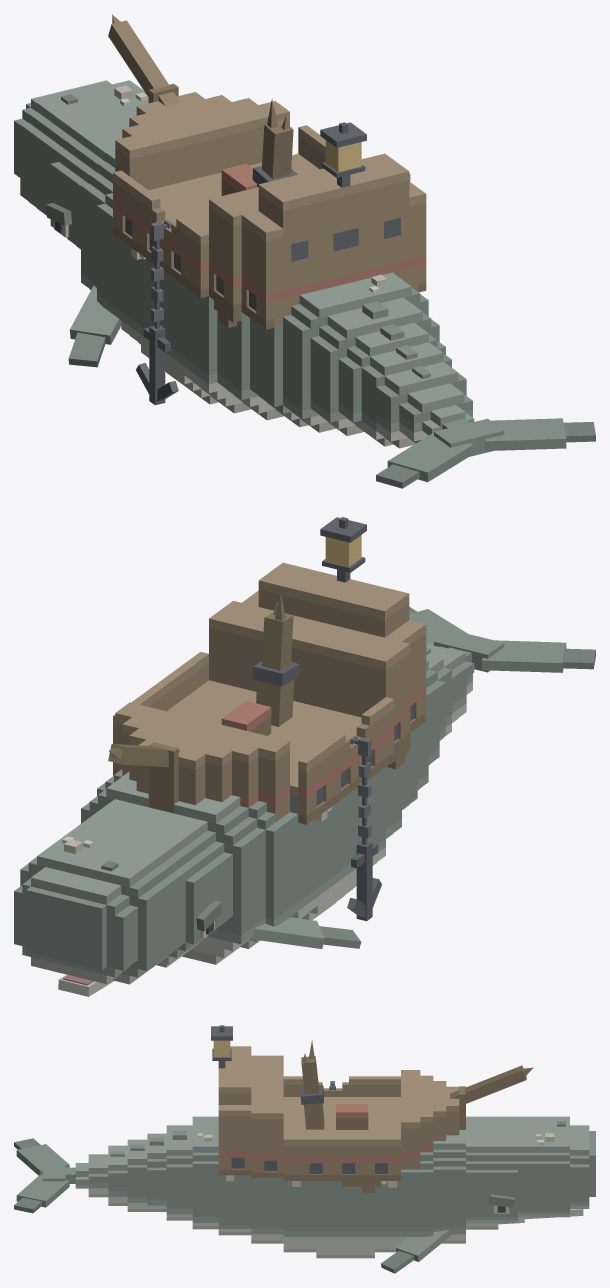
The model's file is GalleonWhale.glb.
3 views of the same model, one above another, from view 1: azimuth 30°, elevation 25°; view 2: azimuth 150°, elevation 25°; view 3: azimuth 270°, elevation 25° (orthographic). The views are drawn at different scales.
Parts seen in each view (by area): view 1: Hull, Head, Tail, T1, T2, T3, T5, T4, FlipL, T6, Hull_Glow, T7; view 2: Hull, Head, Tail, FlipL, T5, T2, Hull_Glow, T1, T4, Jaw; view 3: Hull, Head, T1, Tail, T2, T3, T4, FlipR, T5, T6, T7.
Boxes of the visible parts, x1=… form: Hull: x1=81, y1=14, x2=426, y2=427; Head: x1=14, y1=80, x2=148, y2=249; Tail: x1=376, y1=418, x2=595, y2=488; T1: x1=283, y1=272, x2=428, y2=432; T2: x1=310, y1=297, x2=439, y2=435; T3: x1=338, y1=323, x2=445, y2=435; T5: x1=376, y1=362, x2=466, y2=448; T4: x1=361, y1=342, x2=451, y2=446; FlipL: x1=68, y1=285, x2=121, y2=367; T6: x1=399, y1=383, x2=472, y2=443; Hull_Glow: x1=325, y1=140, x2=361, y2=172; T7: x1=422, y1=405, x2=474, y2=435; Hull: x1=81, y1=517, x2=426, y2=964; Head: x1=14, y1=799, x2=232, y2=984; Tail: x1=409, y1=607, x2=595, y2=672; FlipL: x1=249, y1=917, x2=361, y2=948; T5: x1=426, y1=647, x2=466, y2=722; T2: x1=426, y1=674, x2=439, y2=765; Hull_Glow: x1=325, y1=535, x2=361, y2=566; T1: x1=417, y1=693, x2=428, y2=790; T4: x1=426, y1=654, x2=451, y2=740; Jaw: x1=58, y1=974, x2=113, y2=996; Hull: x1=211, y1=1025, x2=533, y2=1258; Head: x1=466, y1=1116, x2=595, y2=1229; T1: x1=192, y1=1116, x2=218, y2=1229; Tail: x1=14, y1=1138, x2=75, y2=1213; T2: x1=166, y1=1125, x2=192, y2=1220; T3: x1=147, y1=1133, x2=166, y2=1211; T4: x1=127, y1=1139, x2=147, y2=1211; FlipR: x1=381, y1=1230, x2=451, y2=1273; T5: x1=108, y1=1145, x2=127, y2=1205; T6: x1=88, y1=1154, x2=108, y2=1197; T7: x1=75, y1=1163, x2=88, y2=1188.
Bounding box in the file's own units: 17.37 × 17.95 × 44.74.
